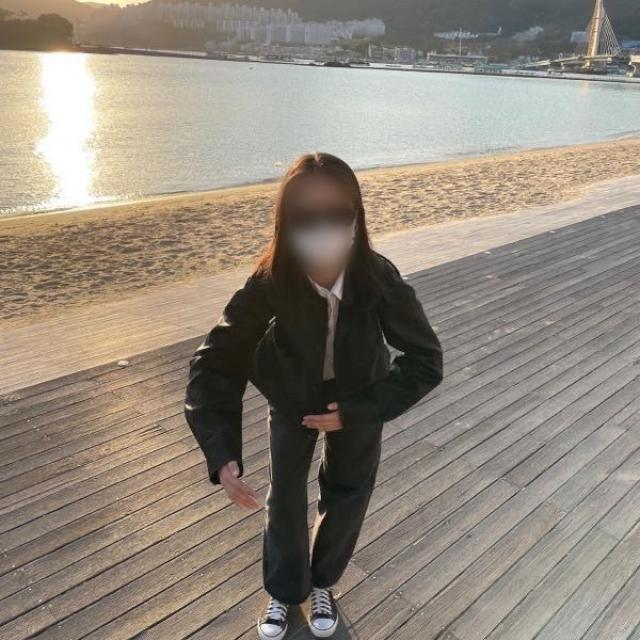jacket: (180, 249, 442, 482), (264, 379, 380, 601)
